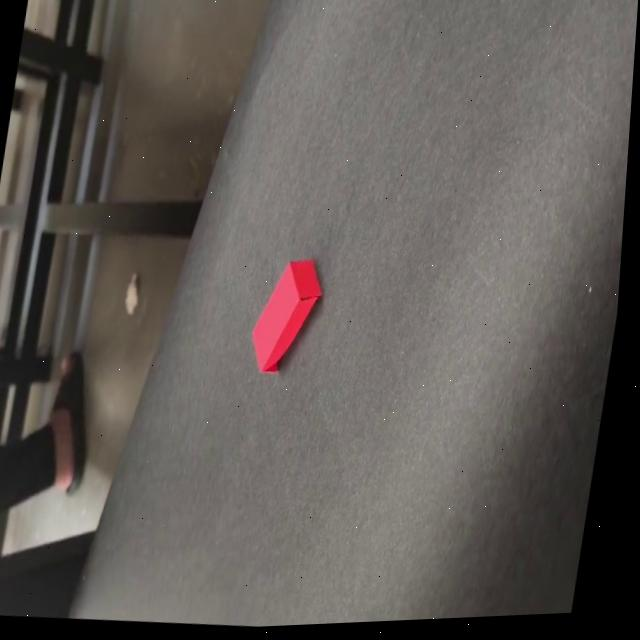red block: (243, 253, 326, 377)
